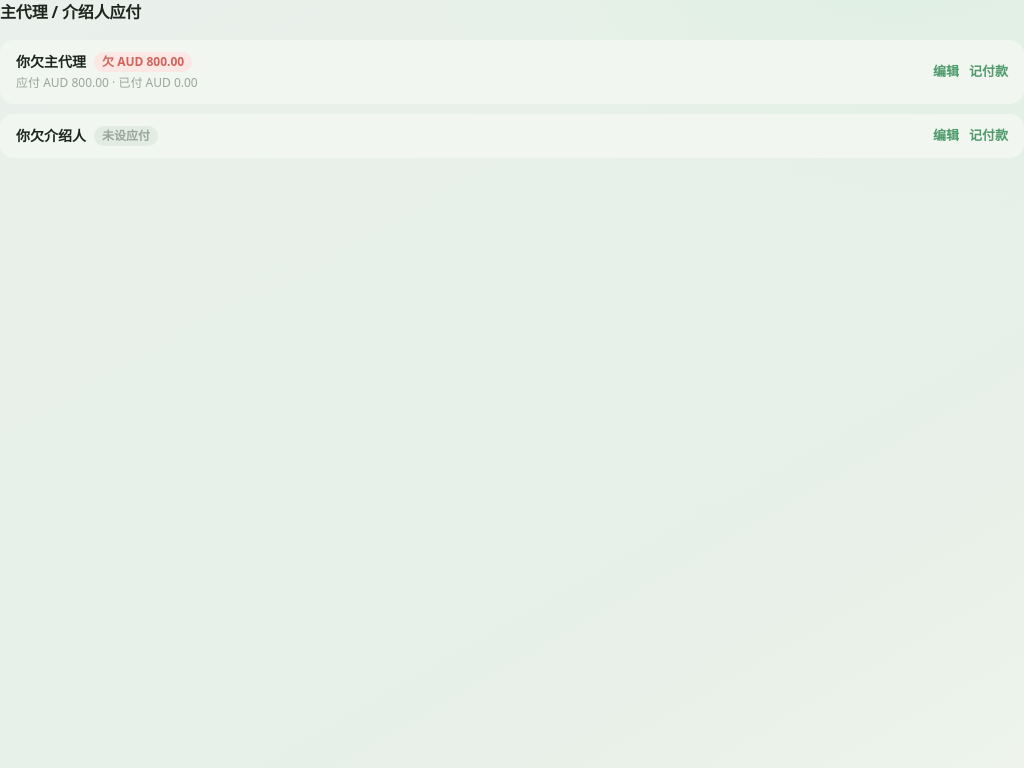
Test case: PayablePanel 每行操作 + 状态派生 › 点主代理「编辑」→ 只显主代理总额，不显介绍人（互不混）
Click the button "编辑" in the row of "AUD 0.00" at coordinates (946, 72), box [933,62,959,82]
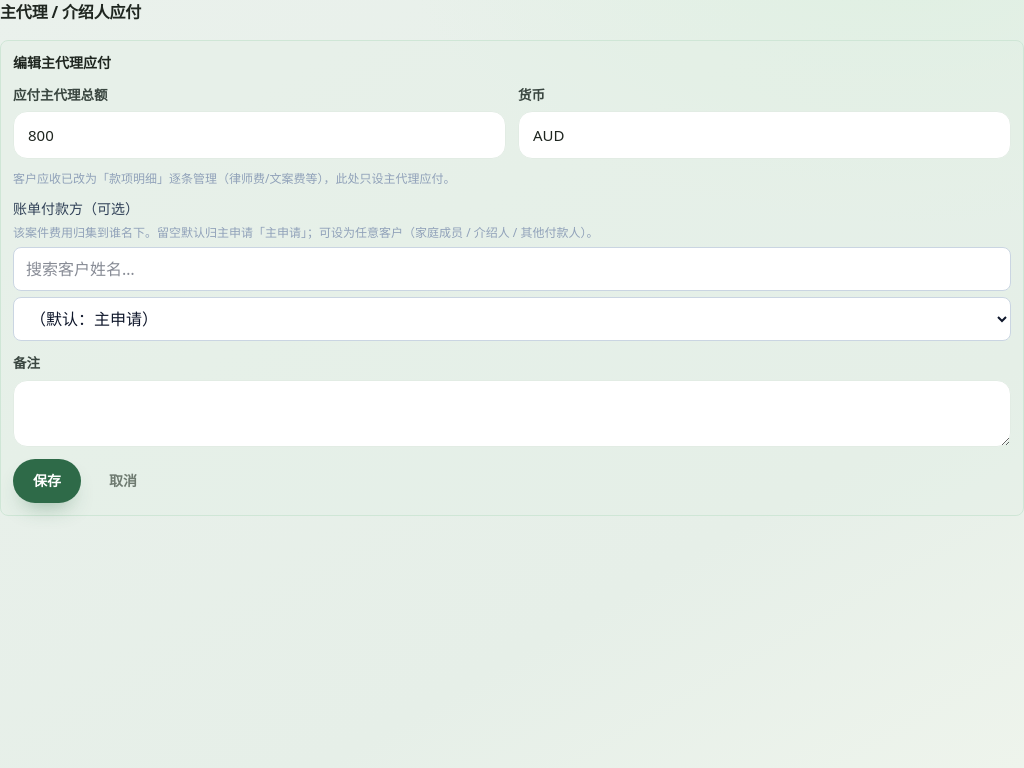
Result: the text "编辑主代理应付" is shown at [13,53,111,72]
Result: the text "应付主代理总额" is shown at [13,86,108,104]
